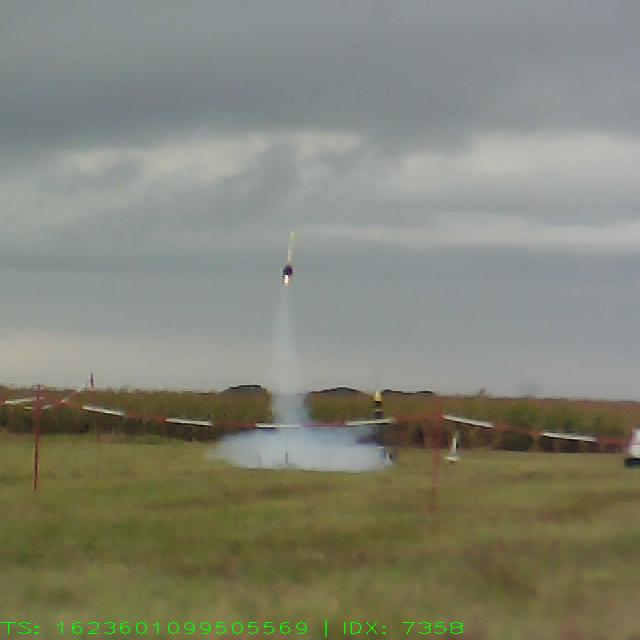Rocket: (372, 388, 399, 462), (280, 230, 297, 276), (443, 430, 465, 463)
